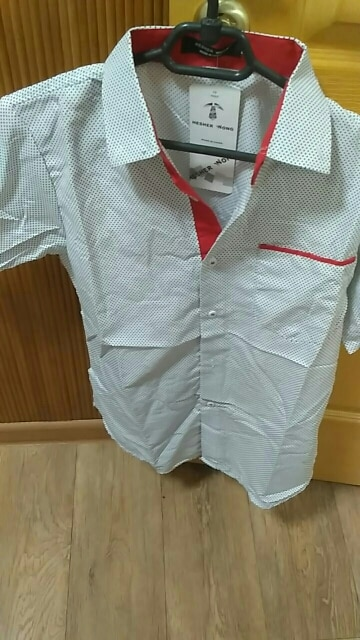shirts: (7, 24, 360, 489)
